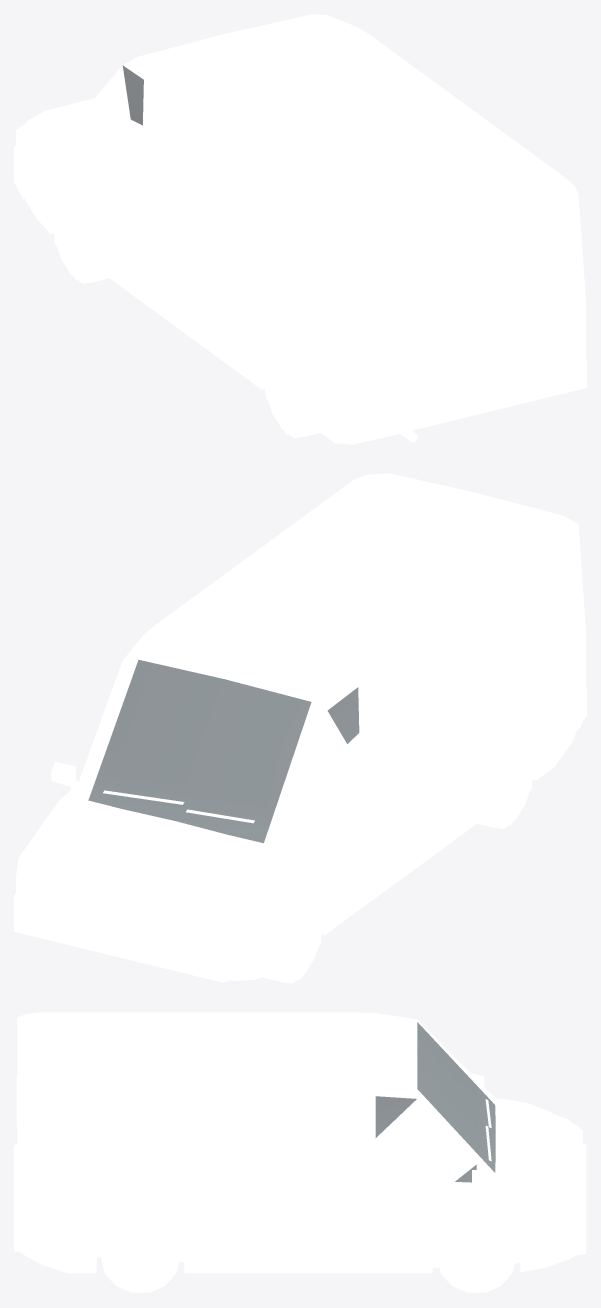
The model's file is van.glb.
3 renders of one model, top to bottom at view 1: azimuth 30°, elevation 25°; view 2: azimuth 150°, elevation 25°; view 3: azimuth 270°, elevation 25°, orthographic. The views are drawn at different scales.
Parts seen in each view (by area): view 1: van, van_lodfar; view 2: van, van_lodfar; view 3: van, van_lodfar.
Boxes of the visible parts, box(x1,y1,x2,y2) form: van: box(14, 14, 586, 444); van_lodfar: box(16, 65, 585, 434); van: box(14, 473, 586, 983); van_lodfar: box(16, 527, 585, 979); van: box(14, 1012, 586, 1292); van_lodfar: box(17, 1013, 582, 1293).
Size of the model in its own units: 2.23 by 2.02 by 5.12.
